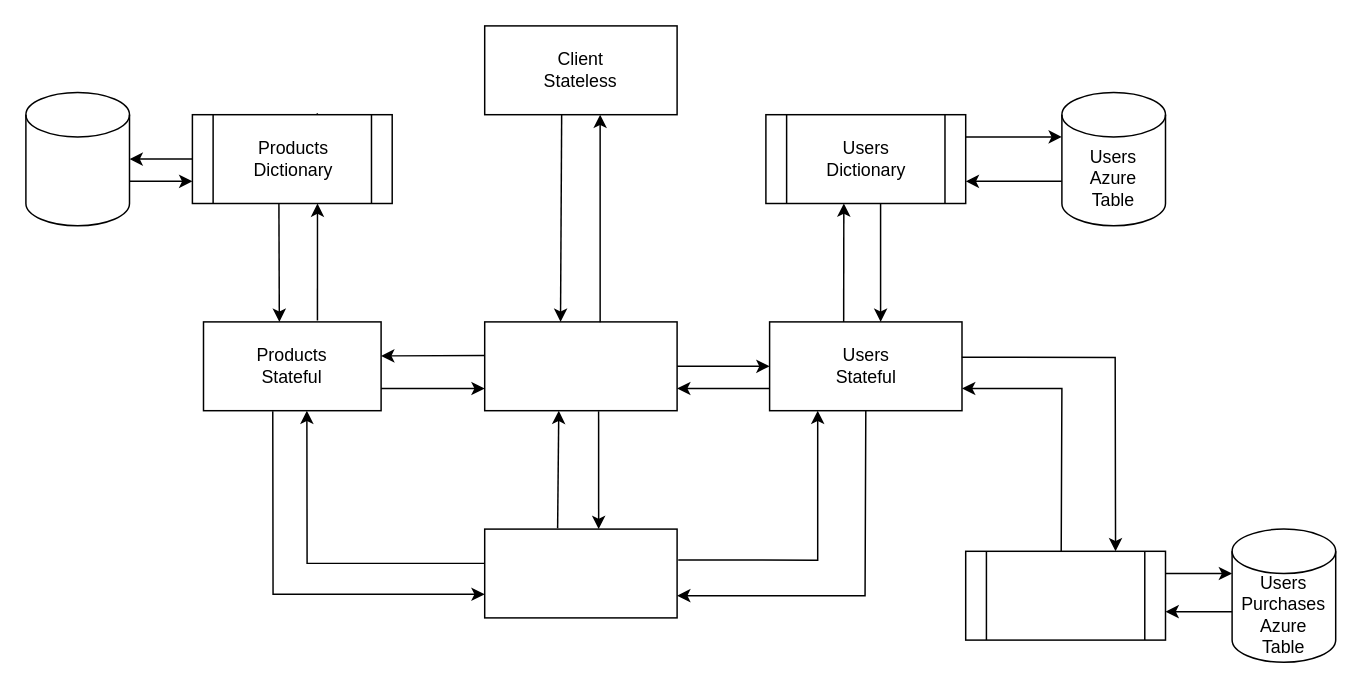
Some shapes in this 1362 by 688 pixel diagram are drawn without their labels. Here are the shapes that lost their labels. From the top down, the box of each, then its label:
(24, 91, 130, 226): Products Azure Table
(483, 320, 677, 411): Api Gateway Stateless
(483, 528, 677, 618): Coordinator Stateful
(964, 550, 1166, 640): User Pruchases Dictionary
